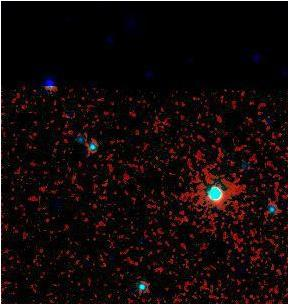star: (229, 151, 259, 181)
